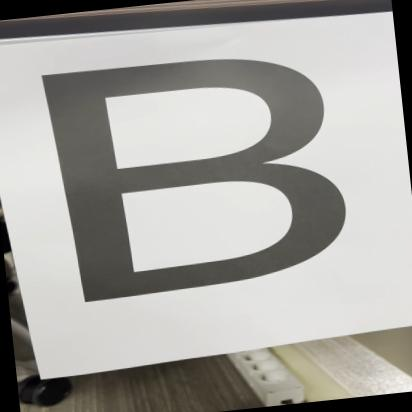seat: (20, 31, 378, 321)
